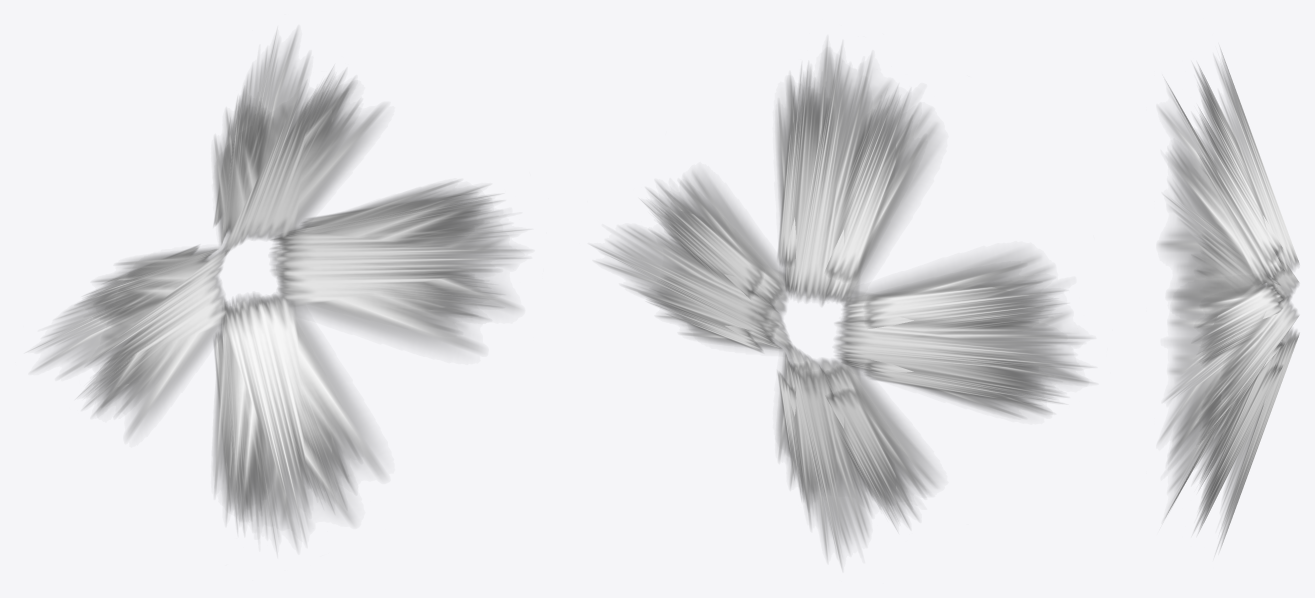
Rendered from si_eop_0003.glb.
3 views of the same model, side by side, from view 1: azimuth 30°, elevation 25°; view 2: azimuth 150°, elevation 25°; view 3: azimuth 270°, elevation 25° (orthographic). The views are drawn at different scales.
Parts seen in each view (by area): view 1: layer_00_si_est_0500; view 2: layer_00_si_est_0500; view 3: layer_00_si_est_0500.
Boxes of the visible parts, left/top/right/bottom form: layer_00_si_est_0500: left=32, top=31, right=526, bottom=548; layer_00_si_est_0500: left=594, top=43, right=1090, bottom=566; layer_00_si_est_0500: left=1159, top=51, right=1299, bottom=546.
Bounding box in the file's own units: 124 × 124 × 33.18.
1 material, 1 textured.
